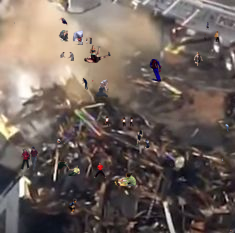Human: (84, 45, 111, 63), (20, 146, 39, 171), (147, 59, 165, 85), (52, 30, 83, 45), (105, 116, 134, 128), (58, 162, 80, 176), (113, 173, 136, 186), (95, 79, 109, 98), (136, 130, 150, 148), (94, 162, 106, 178), (68, 199, 80, 214), (204, 31, 219, 42), (58, 17, 69, 29), (60, 52, 74, 61), (194, 52, 203, 66), (82, 78, 88, 90), (86, 36, 92, 44), (57, 139, 65, 144), (225, 124, 229, 132), (229, 227, 234, 233), (206, 22, 209, 30), (170, 164, 172, 168), (92, 80, 94, 83), (73, 131, 77, 132), (222, 158, 223, 161), (177, 119, 178, 121), (14, 22, 15, 24)
